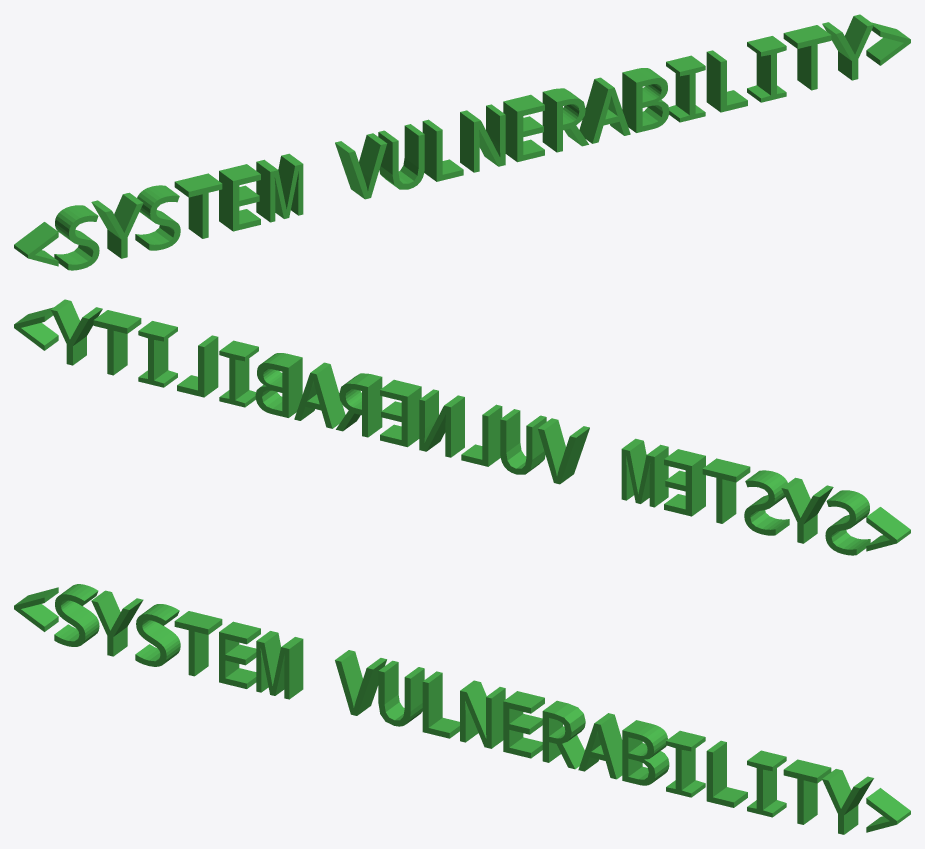
File: tinker.obj
The picture shows the model from 3 angles, top to bottom: view 1: azimuth 30°, elevation 25°; view 2: azimuth 150°, elevation 25°; view 3: azimuth 330°, elevation 25°; orthographic projection.
Parts seen in each view (by area): view 1: obj_0; view 2: obj_0; view 3: obj_0.
Part boxes in pixels (left/top/right/bottom): obj_0: left=14, top=14, right=910, bottom=270; obj_0: left=14, top=299, right=910, bottom=555; obj_0: left=14, top=584, right=910, bottom=834.
Size of the model in its own units: 363 by 20.4 by 10.
